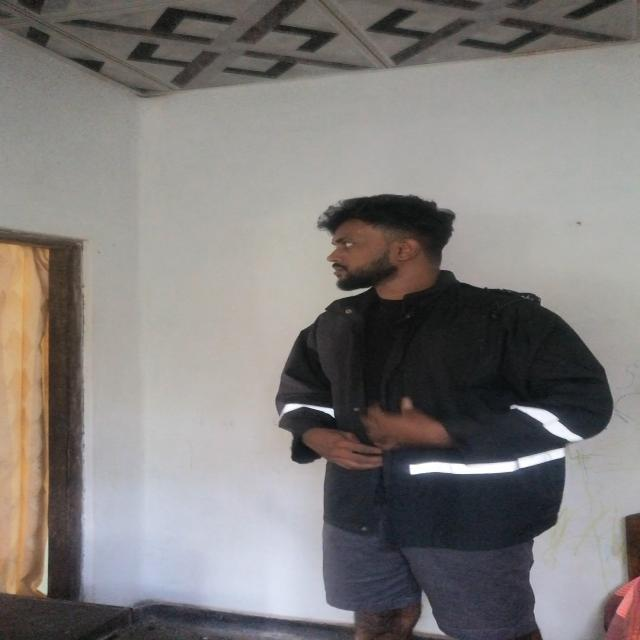Jacket_Wearer: (265, 281, 618, 532)
